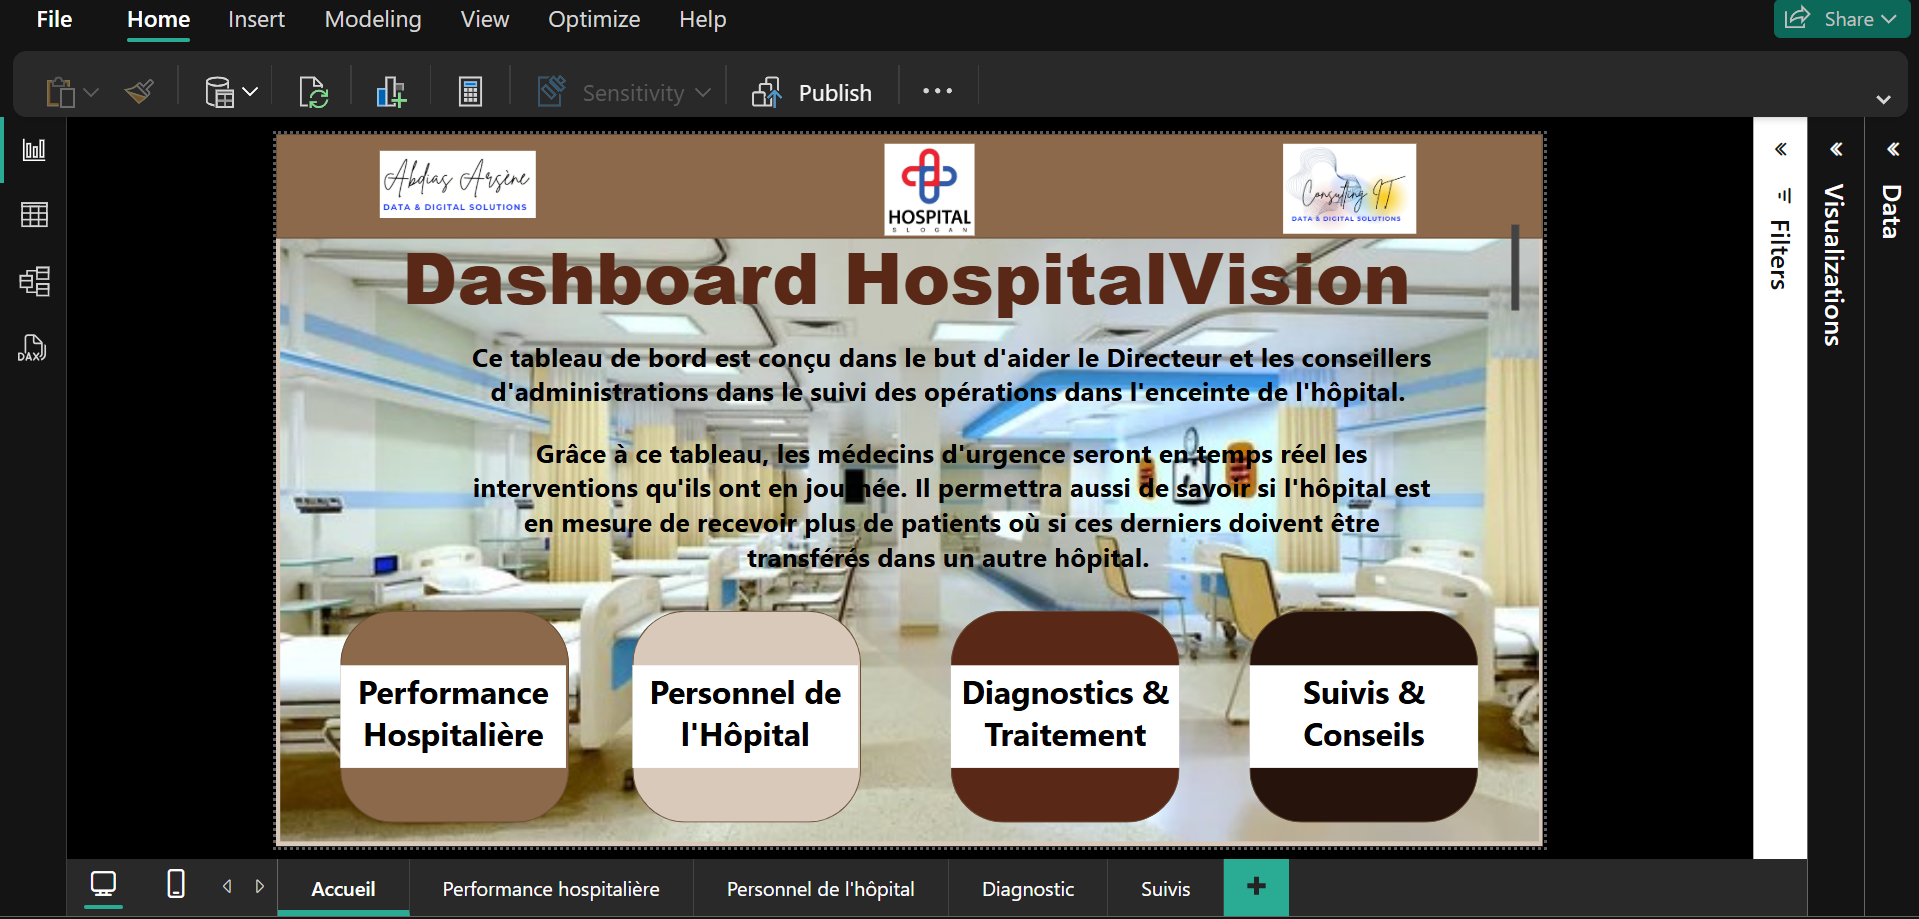

The page's visual inventory and layout, read from the dashboard file:
{"tool":"powerbi","page":{"name":"Accueil","canvas":[1280,720],"ordinal":0},"visuals":[{"type":"image","box":[0,0,1279.5,719.6],"z":0,"group":"g1"},{"type":"shape","box":[0,0,1279.5,105.5],"z":1000,"group":"g1"},{"type":"textbox","box":[20.2,86.8,1240.7,103.9],"z":2000,"group":"g1"},{"type":"shape","box":[65.1,482.3,231.1,214],"z":3000,"group":"g1"},{"type":"shape","box":[359.8,482.3,231.1,214],"z":4000,"group":"g1"},{"type":"shape","box":[680.8,482.3,231.1,214],"z":5000,"group":"g1"},{"type":"shape","box":[983.3,482.3,231.1,214],"z":6000,"group":"g1"},{"type":"textbox","box":[65.1,536.6,228,103.9],"z":7000,"group":"g1"},{"type":"textbox","box":[680.8,536.6,231.1,103.9],"z":8000,"group":"g1"},{"type":"textbox","box":[983.3,536.6,231.1,103.9],"z":9000,"group":"g1"},{"type":"textbox","box":[359.8,536.6,228,103.9],"z":10000,"group":"g1"},{"type":"image","box":[590.9,4.7,136.5,102.4],"z":11000,"group":"g1"},{"type":"image","box":[997.2,4.7,175.3,100.8],"z":12000,"group":"g1"},{"type":"image","box":[100.8,0,167.5,102.4],"z":13000,"group":"g1"},{"type":"textbox","box":[179.9,201.6,1005,263.7],"z":14000,"group":"g1"},{"type":"group","id":"g1","title":"Groupe 1","box":[0,0,1279.5,719.6],"z":14001}]}

Visuals, with their boxes on the page's 1280x720 design canvas (x1, y1, x2, y2). These are canvas units, not pixel positions in the 1919x919 screenshot, which may show the page scaled, cropped or inside an application window:
image: (0, 0, 1280, 720)
shape: (0, 0, 1280, 106)
textbox: (20, 87, 1261, 191)
shape: (65, 482, 296, 696)
shape: (360, 482, 591, 696)
shape: (681, 482, 912, 696)
shape: (983, 482, 1214, 696)
textbox: (65, 537, 293, 640)
textbox: (681, 537, 912, 640)
textbox: (983, 537, 1214, 640)
textbox: (360, 537, 588, 640)
image: (591, 5, 727, 107)
image: (997, 5, 1172, 106)
image: (101, 0, 268, 102)
textbox: (180, 202, 1185, 465)
"Groupe 1" group: (0, 0, 1280, 720)
